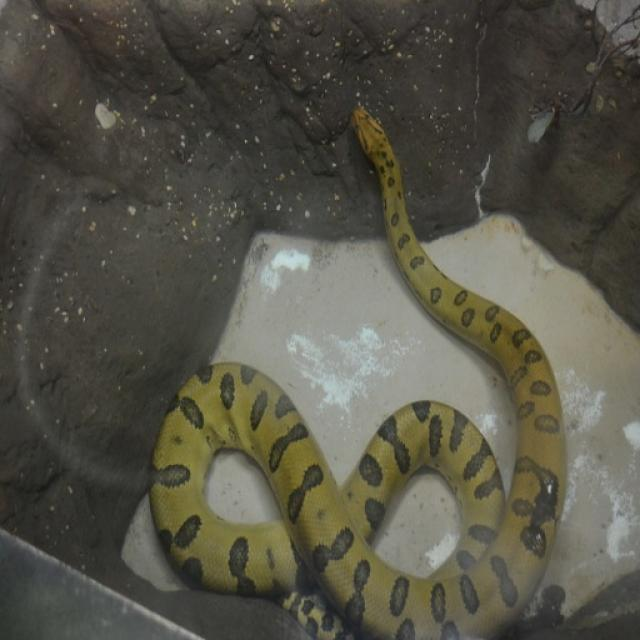snake: (150, 88, 599, 636)
